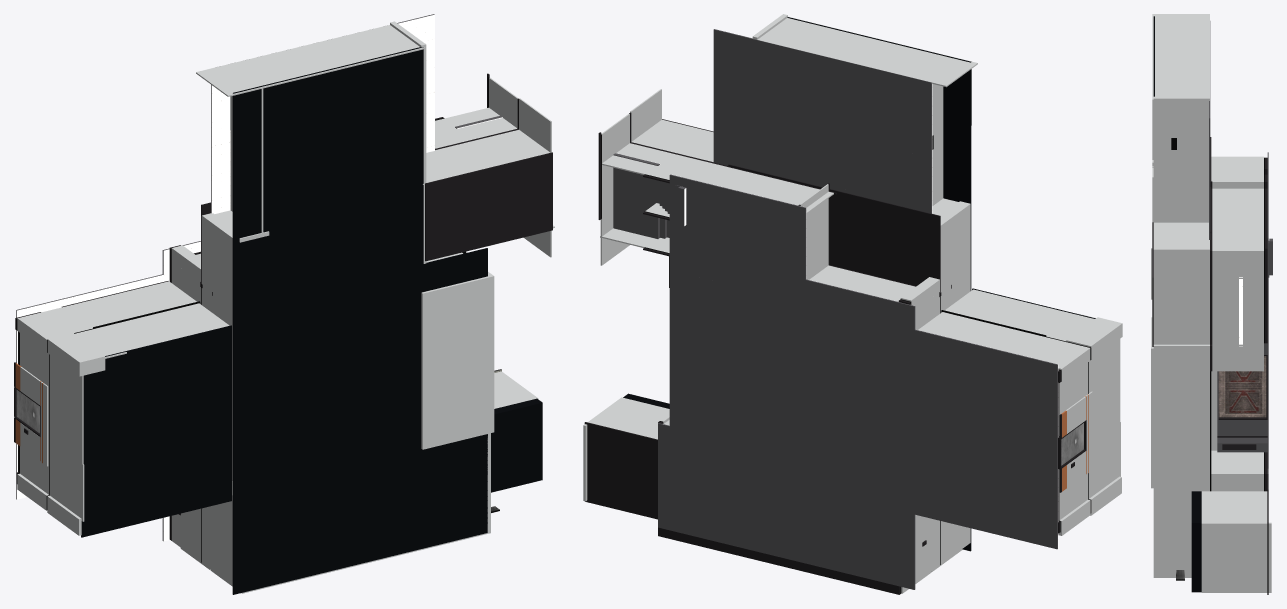
File: scp_gate_b.fbx
The picture shows the model from 3 angles, left to right: view 1: azimuth 30°, elevation 25°; view 2: azimuth 150°, elevation 25°; view 3: azimuth 270°, elevation 25°; orthographic projection. The views are drawn at different scales.
Visible parts, largest first — view 1: Object_21, Object_13, Object_27, Object_12, Object_17, Object_20, Object_11; view 2: Object_11, Object_13, Object_17, Object_27, Object_21, Object_20; view 3: Object_13, Object_16, Object_3, Object_17, Object_21, Object_11, Object_27, Object_7, Object_20, Object_12.
Part boxes in pixels (bbox=[...]): Object_21: bbox=[81, 47, 542, 594]; Object_13: bbox=[17, 21, 554, 593]; Object_27: bbox=[14, 152, 552, 515]; Object_12: bbox=[17, 14, 502, 541]; Object_17: bbox=[14, 73, 518, 539]; Object_20: bbox=[16, 77, 489, 562]; Object_11: bbox=[16, 14, 502, 541]; Object_11: bbox=[613, 29, 1057, 589]; Object_13: bbox=[583, 14, 1122, 593]; Object_17: bbox=[584, 113, 1061, 594]; Object_27: bbox=[662, 119, 1074, 546]; Object_21: bbox=[623, 17, 1095, 551]; Object_20: bbox=[601, 134, 1091, 593]; Object_13: bbox=[1151, 14, 1271, 592]; Object_16: bbox=[1217, 343, 1267, 452]; Object_3: bbox=[1218, 386, 1266, 417]; Object_17: bbox=[1210, 157, 1268, 594]; Object_21: bbox=[1153, 16, 1201, 592]; Object_11: bbox=[1209, 21, 1272, 489]; Object_27: bbox=[1152, 137, 1267, 449]; Object_7: bbox=[1218, 356, 1266, 386]; Object_20: bbox=[1171, 138, 1264, 491]; Object_12: bbox=[1239, 277, 1242, 346].
Size of the model in its own units: 80.56 by 79.46 by 19.46.
Materials: 26 (16 with a texture image).
